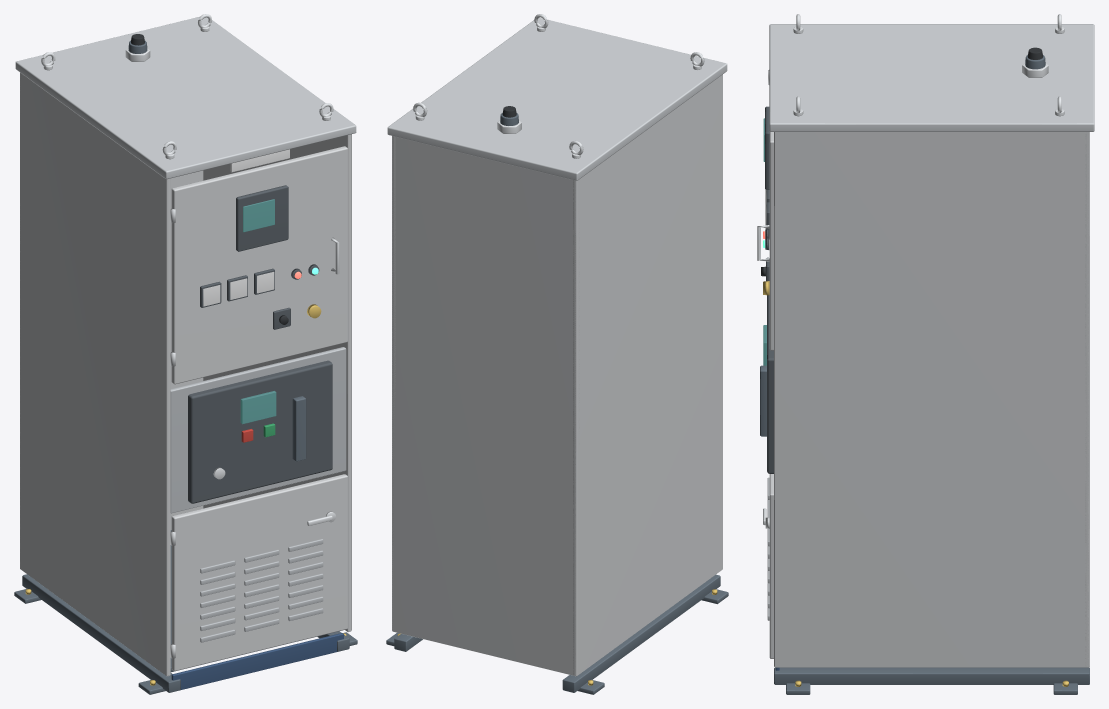
File: lv-bay-acb.glb
3 views of the same model, side by side, from view 1: azimuth 30°, elevation 25°; view 2: azimuth 150°, elevation 25°; view 3: azimuth 270°, elevation 25° (orthographic). The views are drawn at different scales.
Visible parts, largest first — view 1: LvBayBody, LvUpperDoor, LvLowerDoor; view 2: LvBayBody; view 3: LvBayBody, LvUpperDoor, LvLowerDoor.
Part boxes in pixels (left/top/right/bottom): LvBayBody: left=14, top=14, right=357, bottom=694; LvUpperDoor: left=170, top=146, right=347, bottom=384; LvLowerDoor: left=170, top=474, right=347, bottom=671; LvBayBody: left=386, top=14, right=728, bottom=694; LvBayBody: left=760, top=14, right=1094, bottom=694; LvUpperDoor: left=757, top=70, right=773, bottom=350; LvLowerDoor: left=763, top=474, right=773, bottom=658.
Size of the model in its own units: 0.852 by 2.14 by 1.11.
